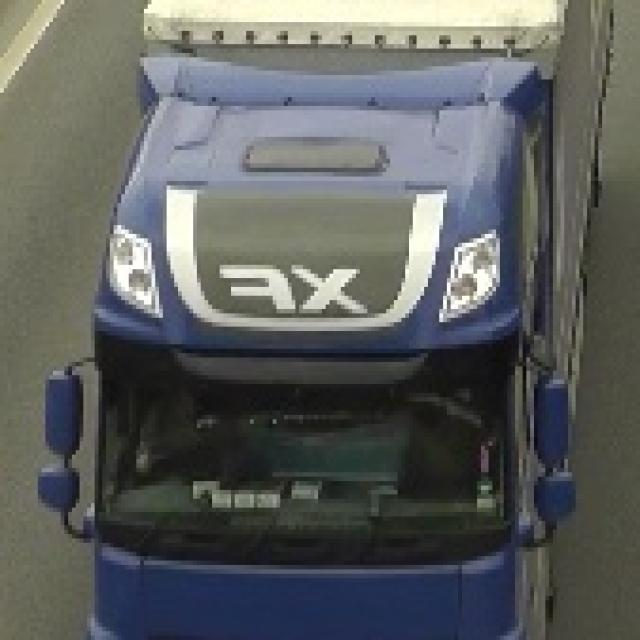TRUCK: (93, 0, 614, 640)
